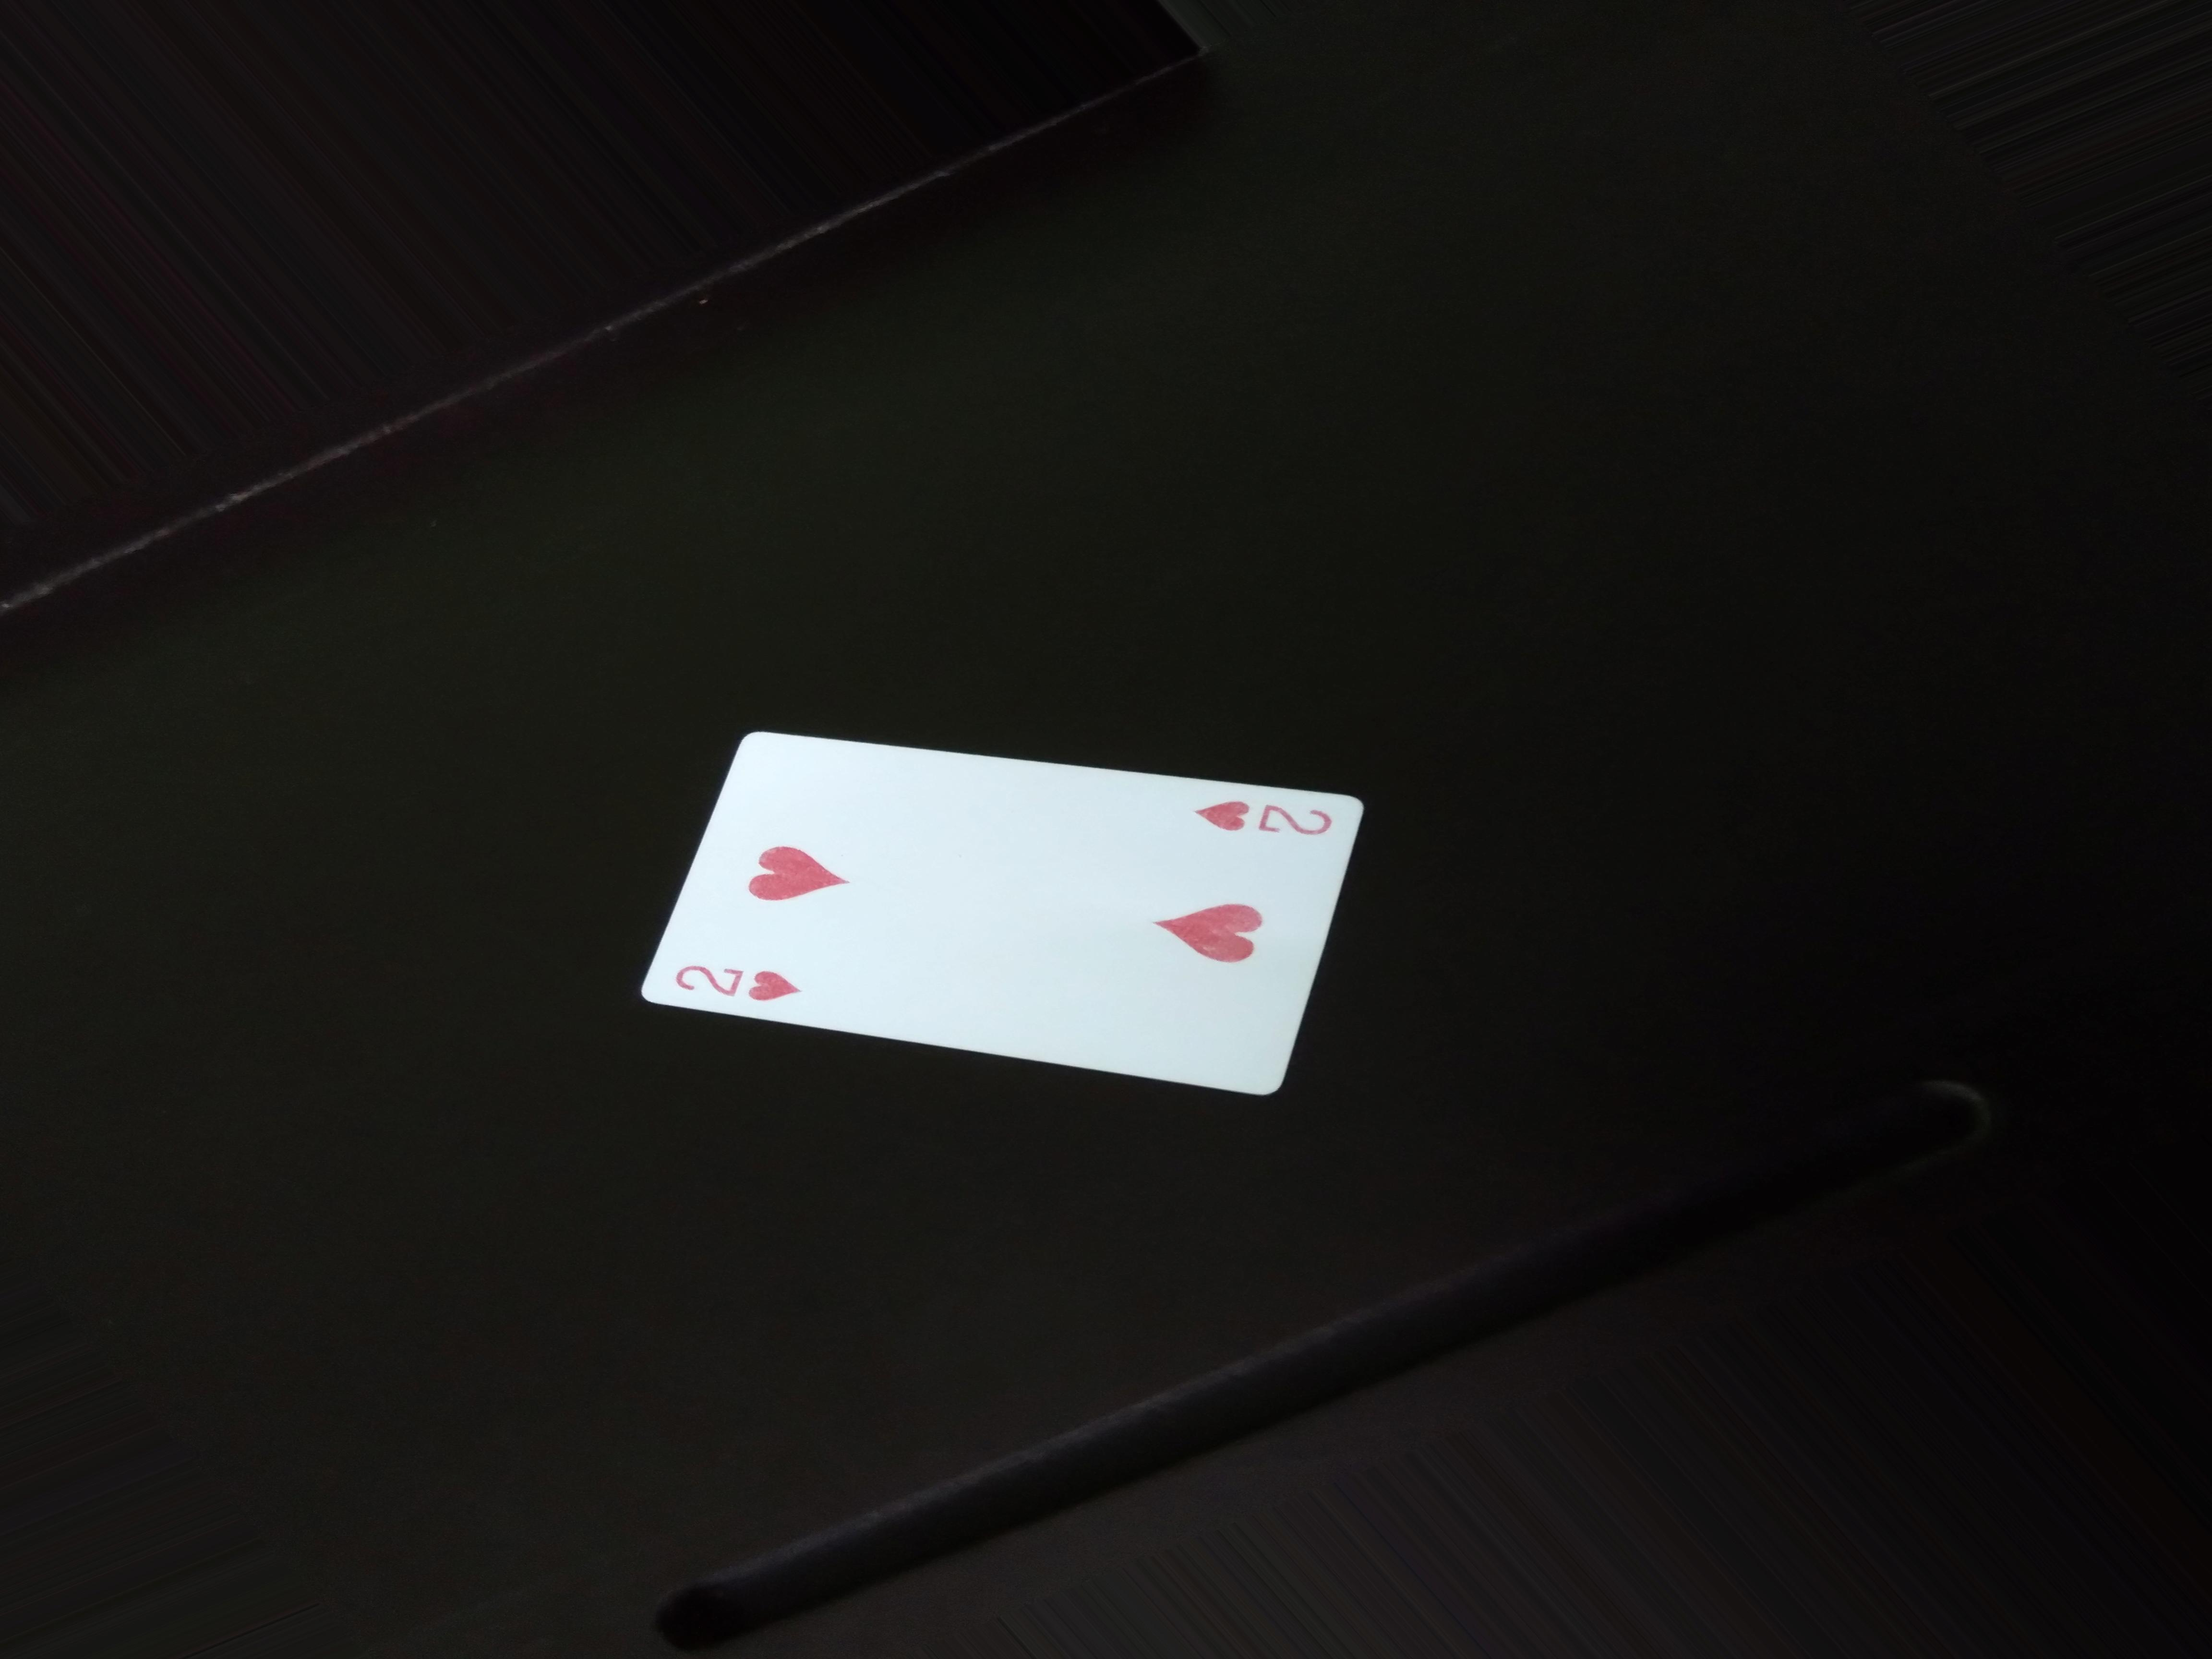2H: (1177, 788, 1346, 847)
